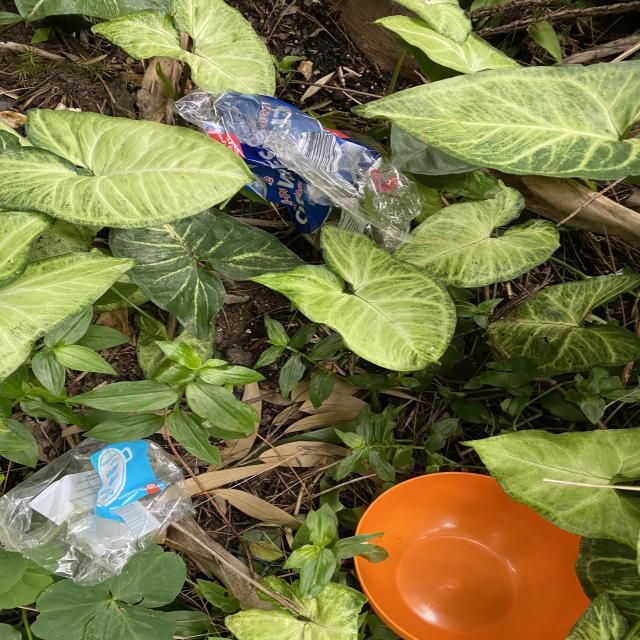bowl: (356, 471, 592, 640)
wrappers: (173, 88, 422, 252), (0, 436, 196, 588)
